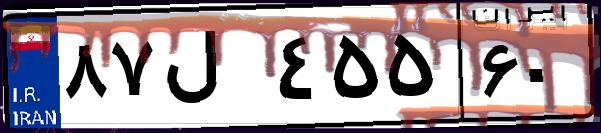0: (525, 38, 570, 115)
4: (270, 28, 330, 110)
5: (385, 28, 445, 110), (330, 28, 385, 110)
6: (475, 38, 525, 113)
7: (110, 28, 158, 98)
8: (57, 26, 110, 100)
ل: (158, 20, 270, 120)
